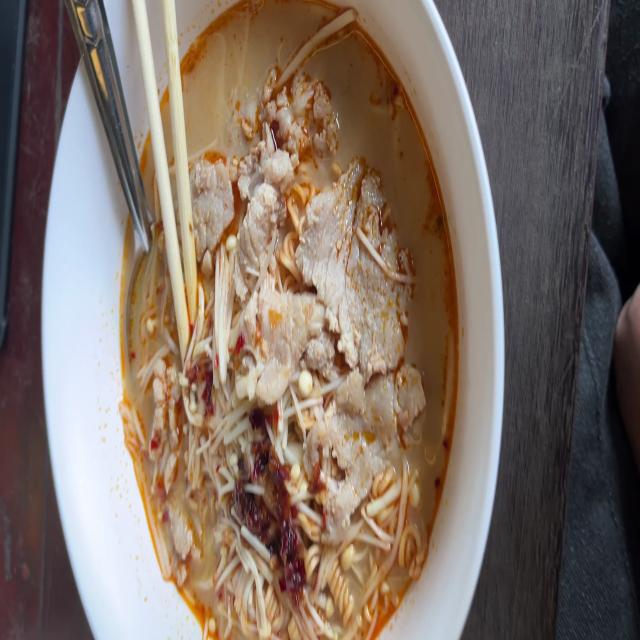noodle: (118, 0, 461, 640)
